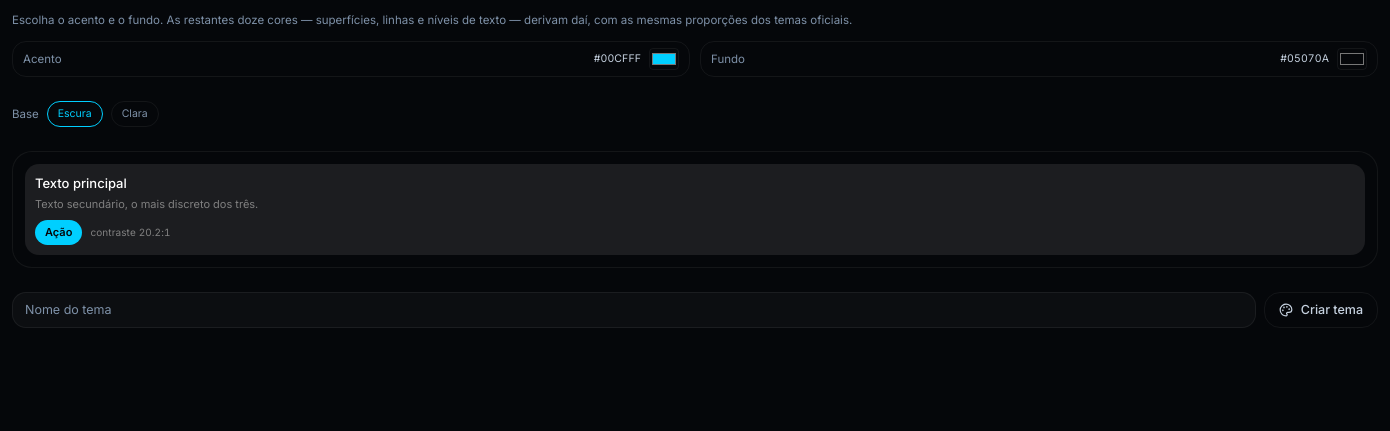
Test: criar › um tema sem nome ainda fica com um
Click the button "Criar tema". click: coordinates (1321, 310)
box: x1=1264 y1=292 x2=1378 y2=328
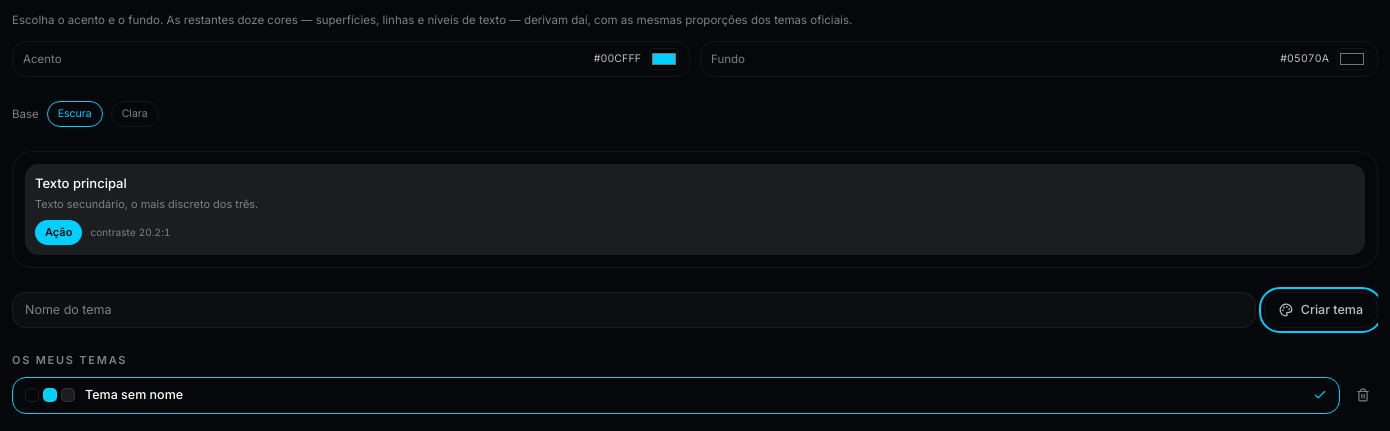
Result: the text "Tema sem nome" is shown at x1=85 y1=387 x2=183 y2=402
